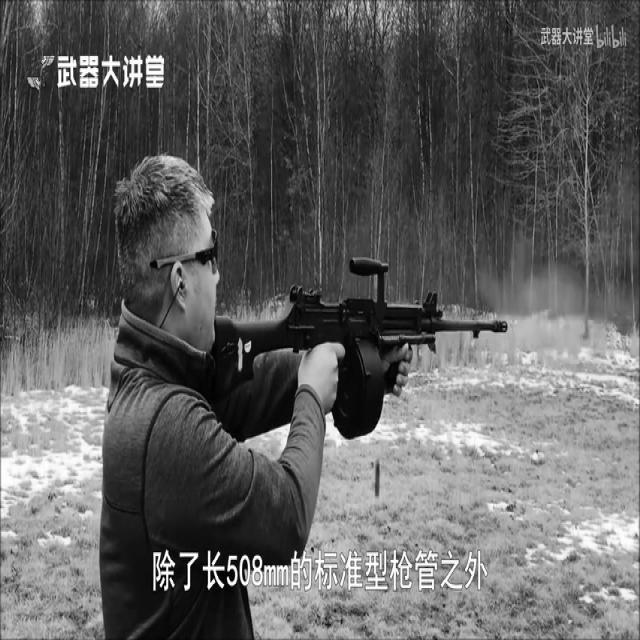Sniper: (132, 207, 524, 506)
